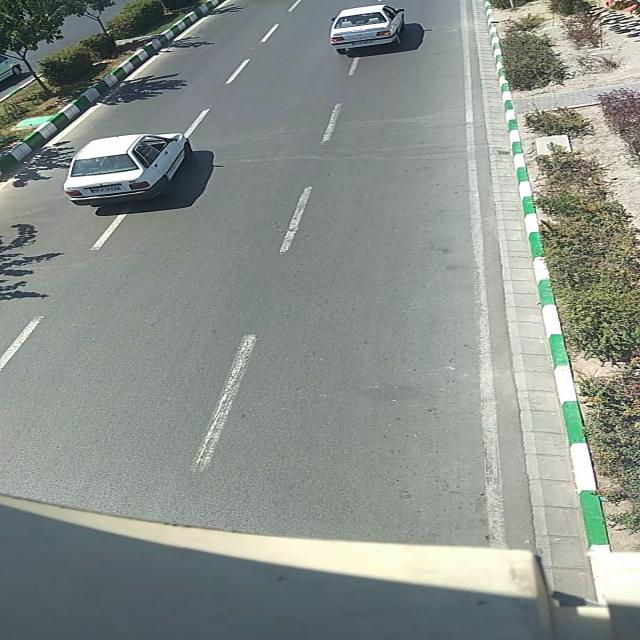car: (66, 133, 188, 207), (329, 5, 405, 55)
